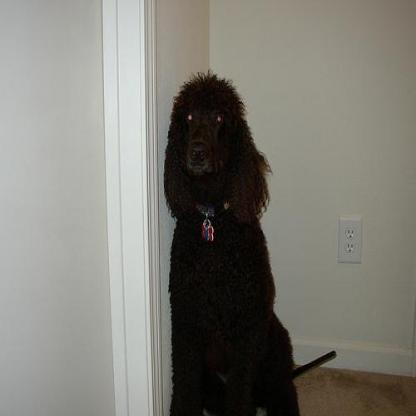Irish_water_spaniel: (162, 70, 336, 414)
